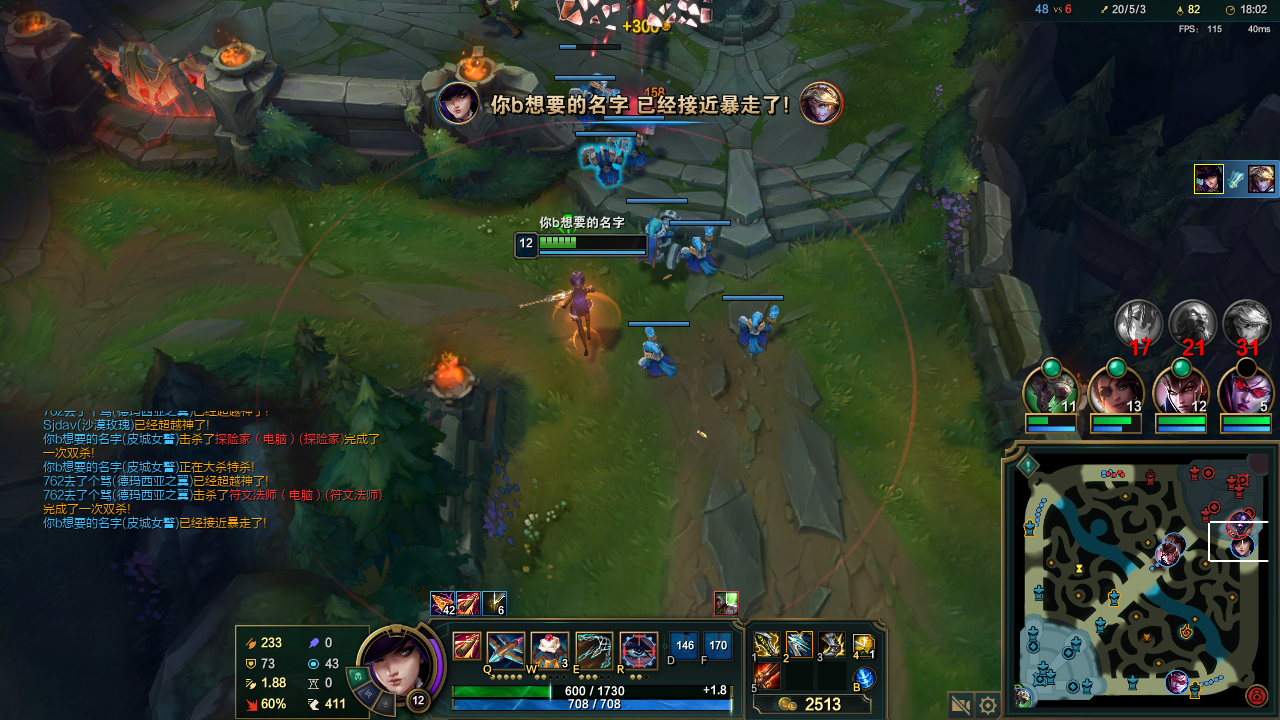WFXB: (635, 336, 692, 387), (728, 307, 784, 357), (647, 215, 688, 277), (686, 233, 728, 280), (584, 142, 628, 184)
